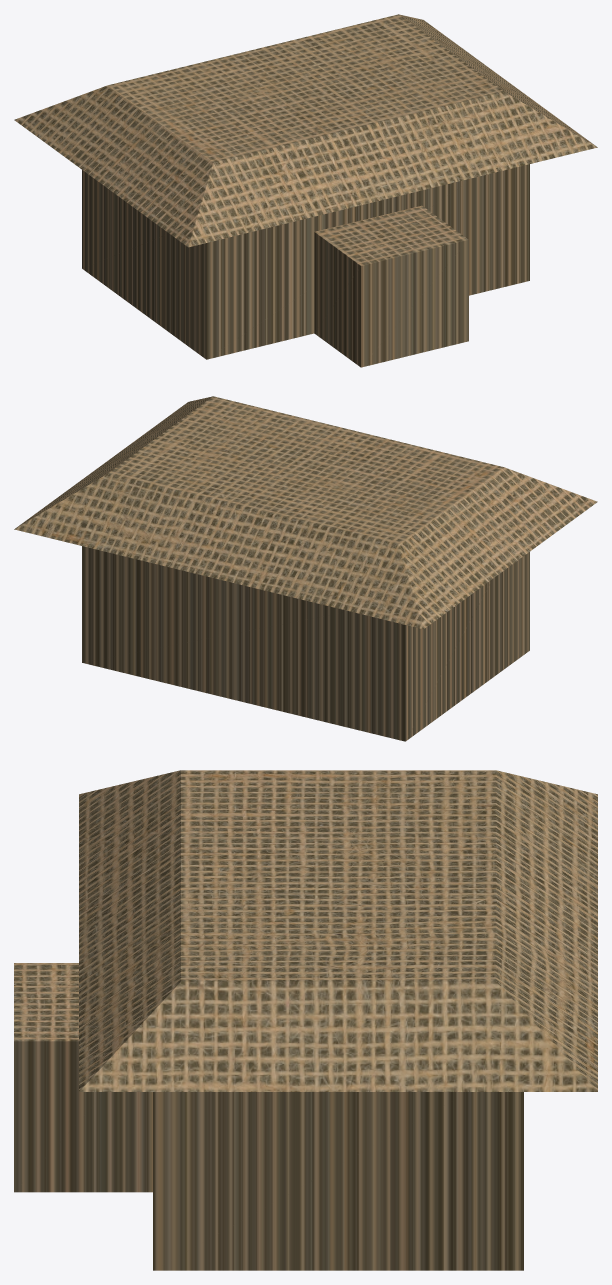
File: ammo_bunker.glb
3 renders of one model, top to bottom at view 1: azimuth 30°, elevation 25°; view 2: azimuth 150°, elevation 25°; view 3: azimuth 270°, elevation 25°, orthographic. The views are drawn at different scales.
Parts seen in each view (by area): view 1: AmmoBunker; view 2: AmmoBunker; view 3: AmmoBunker.
Boxes of the visible parts, x1=… form: AmmoBunker: x1=14, y1=14, x2=597, y2=367; AmmoBunker: x1=14, y1=396, x2=597, y2=741; AmmoBunker: x1=14, y1=770, x2=597, y2=1270.
Bounding box in the file's own units: 7.6 × 3.3 × 6.3.
1 material, 1 textured.
